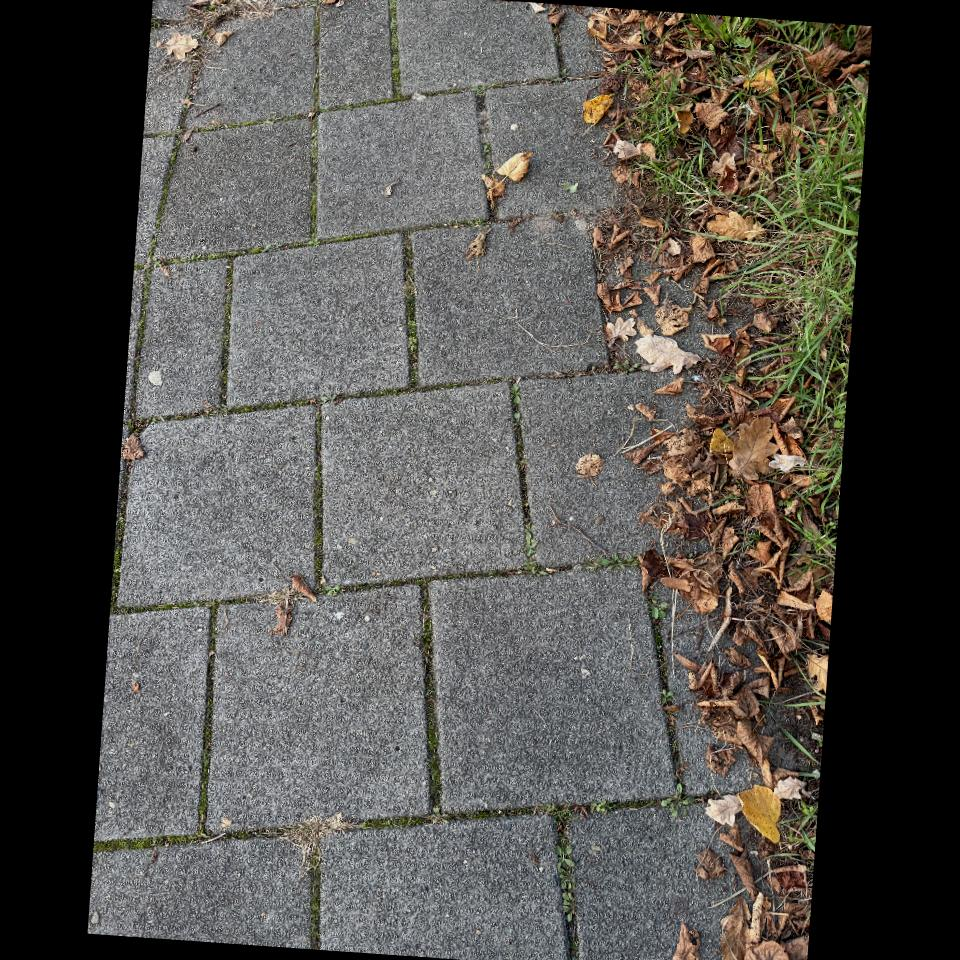weed: (422, 583, 446, 822), (268, 812, 353, 879), (197, 605, 217, 840), (362, 804, 451, 829), (93, 833, 204, 853), (536, 804, 579, 849), (309, 54, 319, 243), (404, 235, 418, 364), (389, 0, 405, 100), (557, 843, 575, 922), (427, 700, 440, 800), (661, 782, 692, 818), (587, 554, 637, 569), (525, 522, 538, 573), (163, 254, 212, 267), (561, 869, 573, 916), (651, 597, 667, 620), (426, 676, 435, 693), (315, 14, 319, 40), (559, 858, 566, 871), (411, 369, 417, 384), (263, 244, 274, 252), (309, 240, 319, 246), (215, 254, 222, 259)
